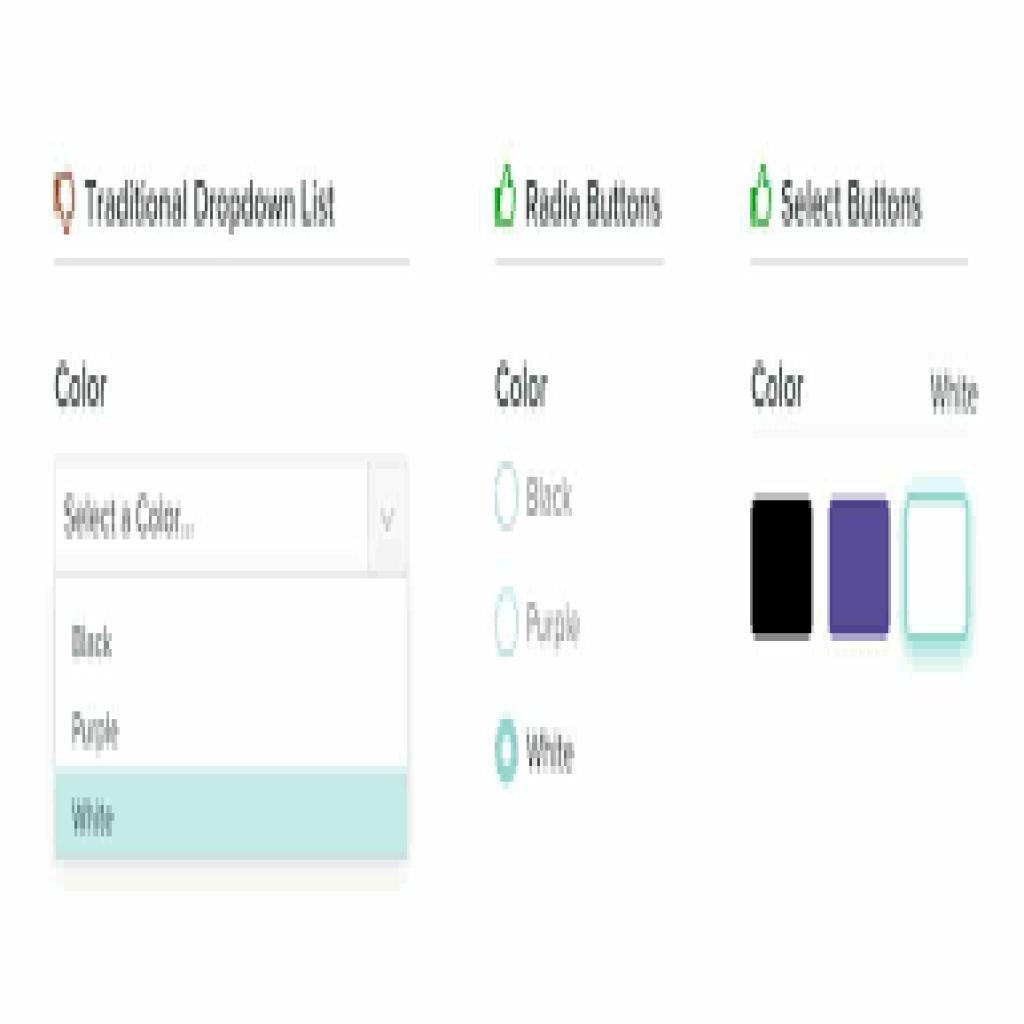dropdown: (52, 467, 414, 575)
radio: (486, 566, 529, 682), (487, 447, 529, 550), (491, 706, 531, 803)
